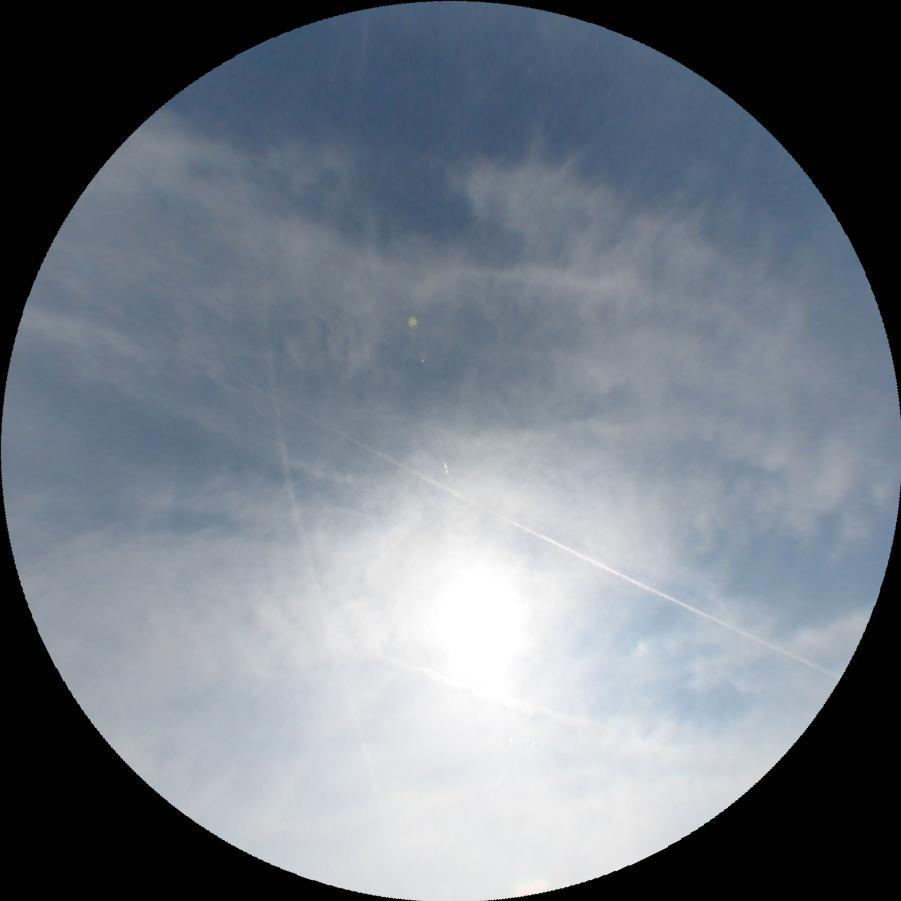contrail old: (118, 310, 838, 687), (240, 285, 390, 831), (371, 648, 587, 731)
sun: (404, 551, 547, 699)
